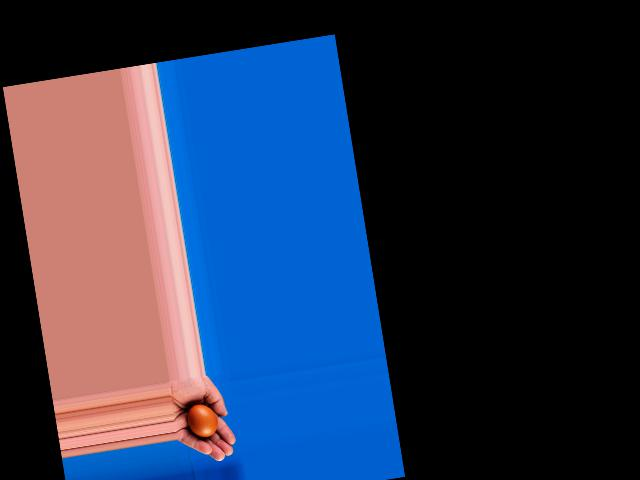egg: (186, 402, 219, 440)
